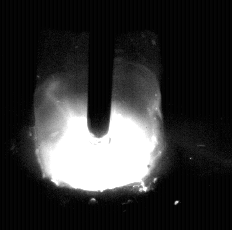arame: (88, 0, 112, 138)
poca: (33, 0, 167, 230)
